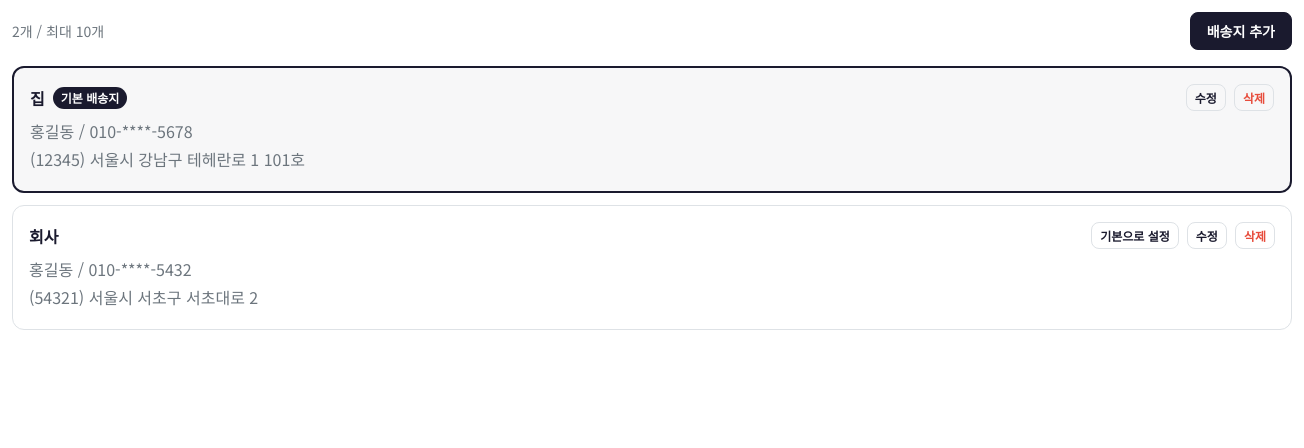
Test case: AddressList › 삭제 취소 시 확인 다이얼로그를 숨긴다
This screenshot has width=1304, height=448.
Click the button "삭제" in the row of "기본 배송지": (1254, 98) [1234, 84, 1274, 111]
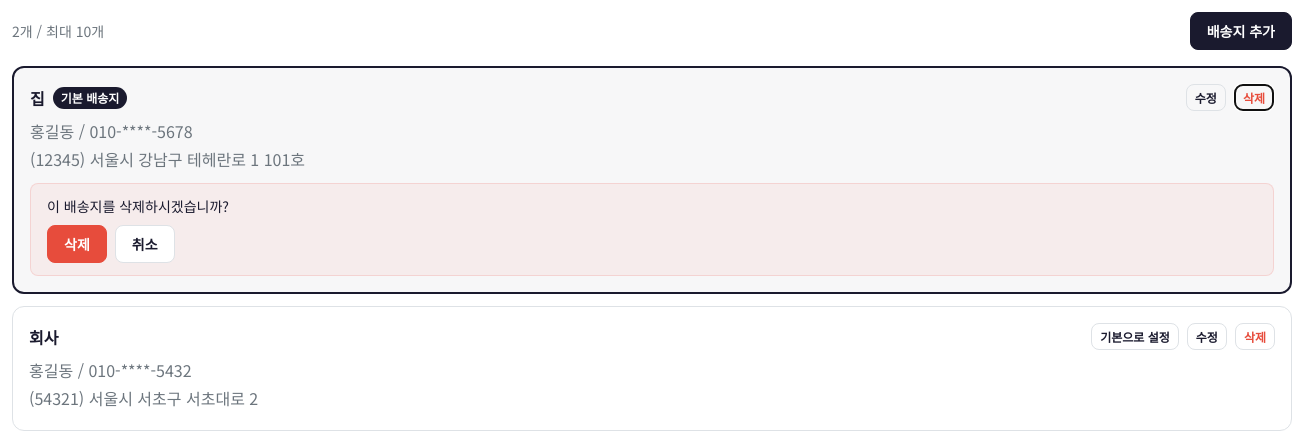
Check: the text "이 배송지를 삭제하시겠습니까?" is shown, box [47, 196, 229, 216]
Click the button "취소": (145, 244) [115, 225, 175, 263]
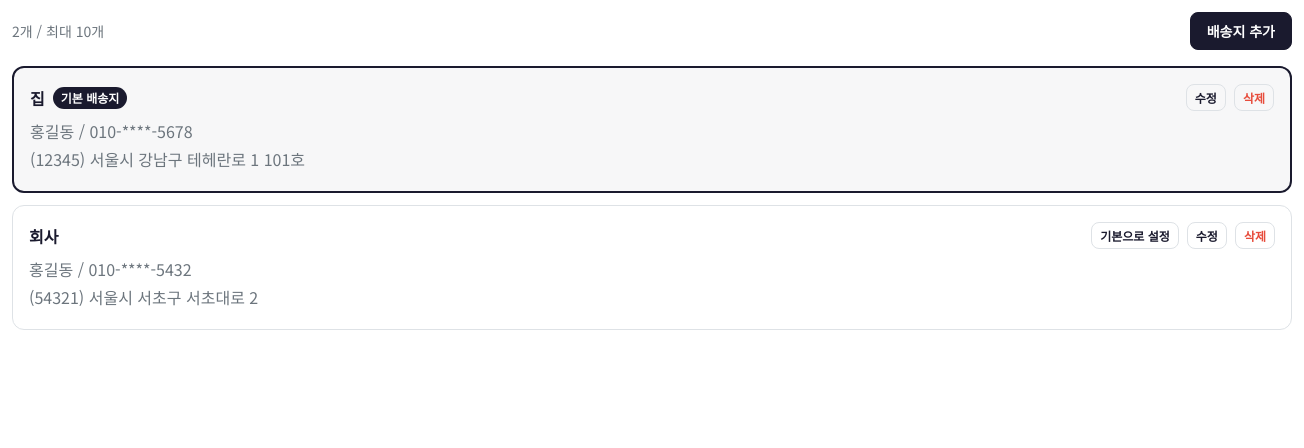
Check: the text "이 배송지를 삭제하시겠습니까?" is gone
